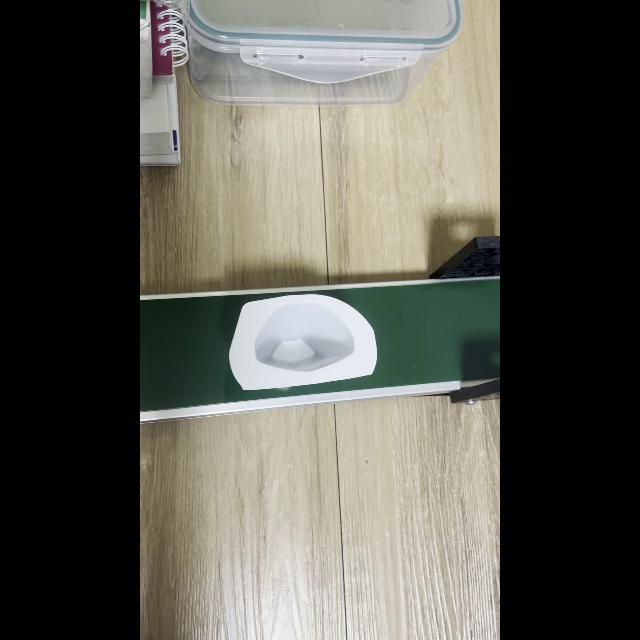clean: (232, 302, 366, 380)
